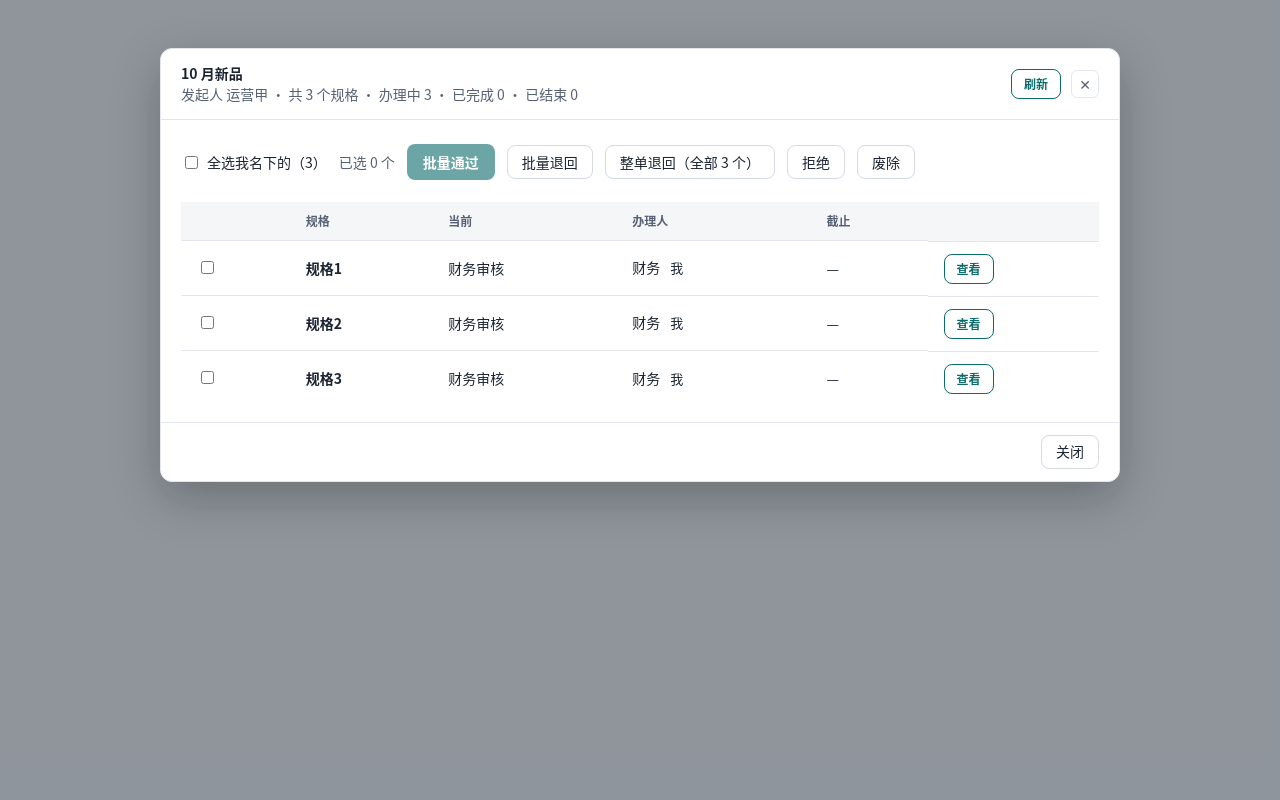
Test: SKU 申请汇总面板 › 勾选规格批量退回：必须写原因，提交后显示成功/失败汇总
The image size is (1280, 800).
Check: the text "规格1" is shown, box top-left (306, 258), bottom-right (342, 278)
Step 1. Click the checkbox named "选择 规格1" → coordinates (208, 267), box top-left (201, 260), bottom-right (214, 274)
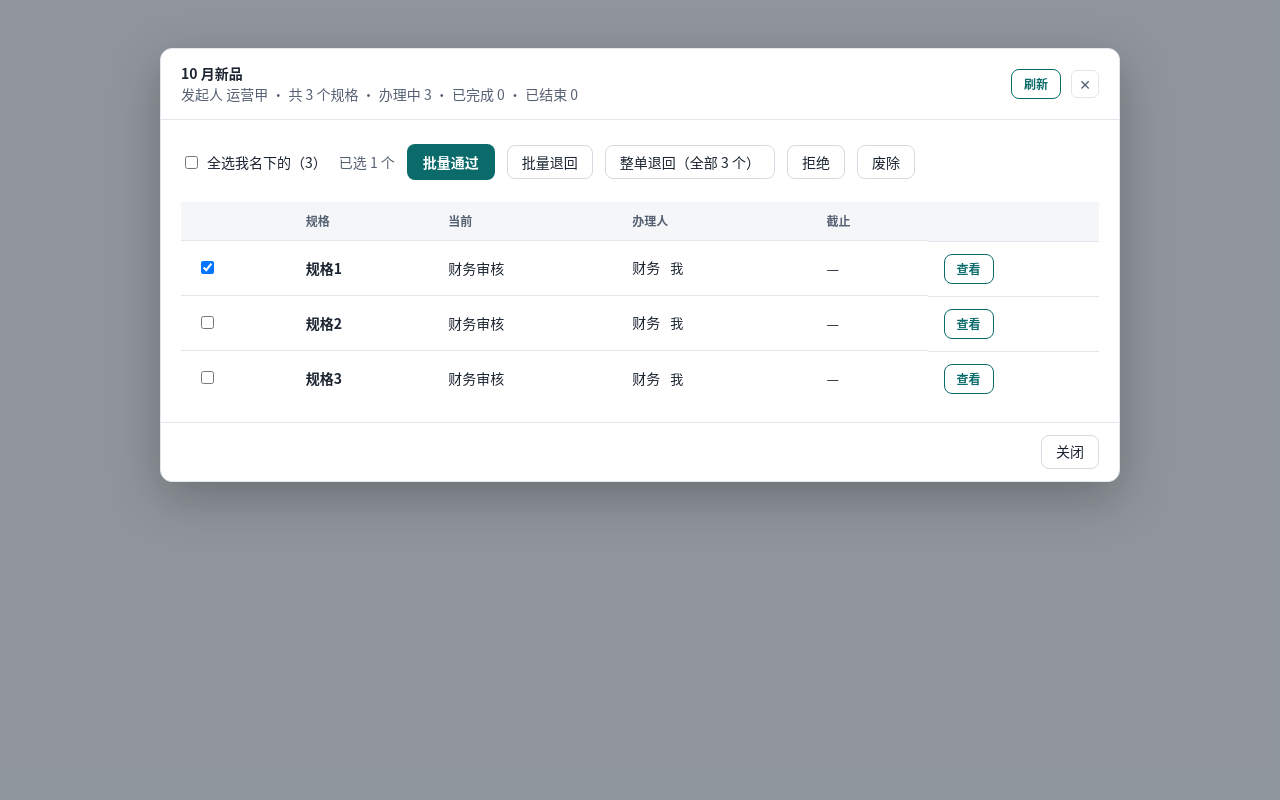
Step 2. Click the checkbox named "选择 规格2" → coordinates (208, 322), box top-left (201, 316), bottom-right (214, 328)
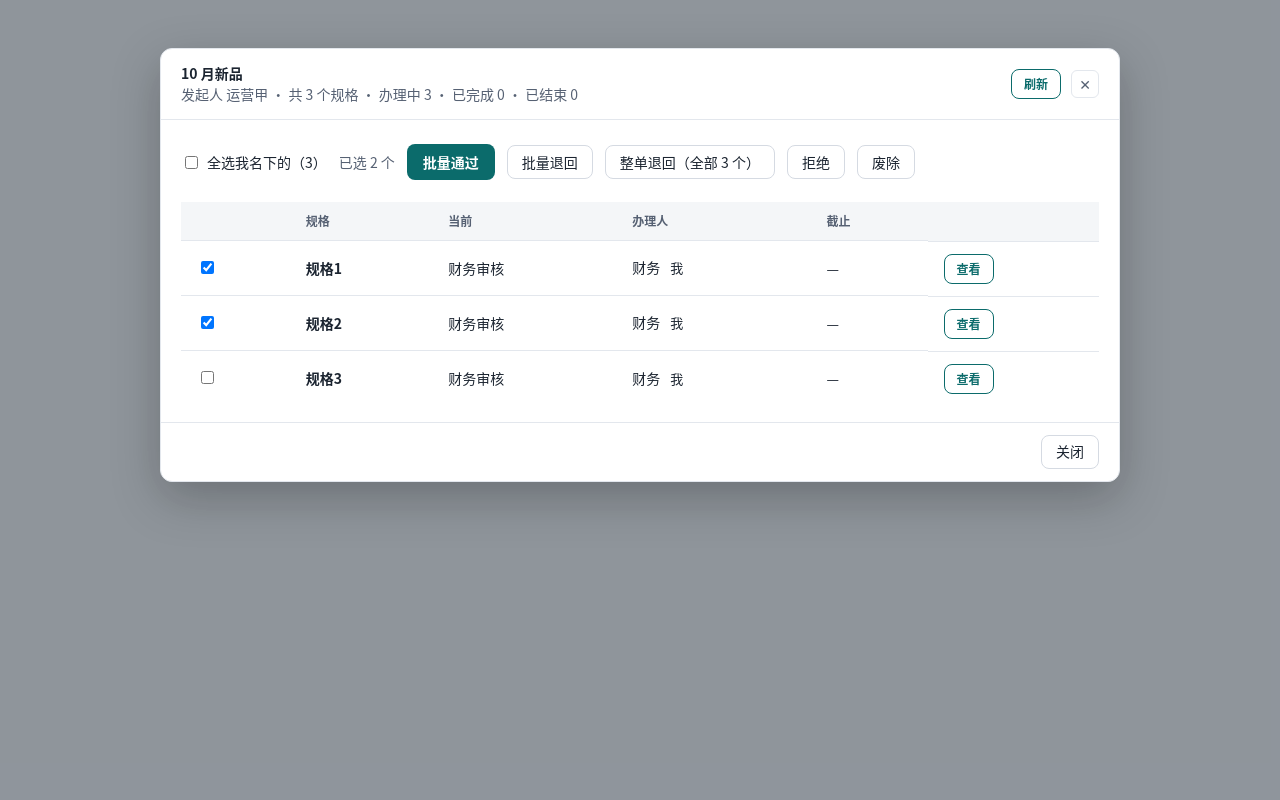
Step 3. Click the button "批量退回" → coordinates (550, 162), box top-left (507, 145), bottom-right (593, 179)
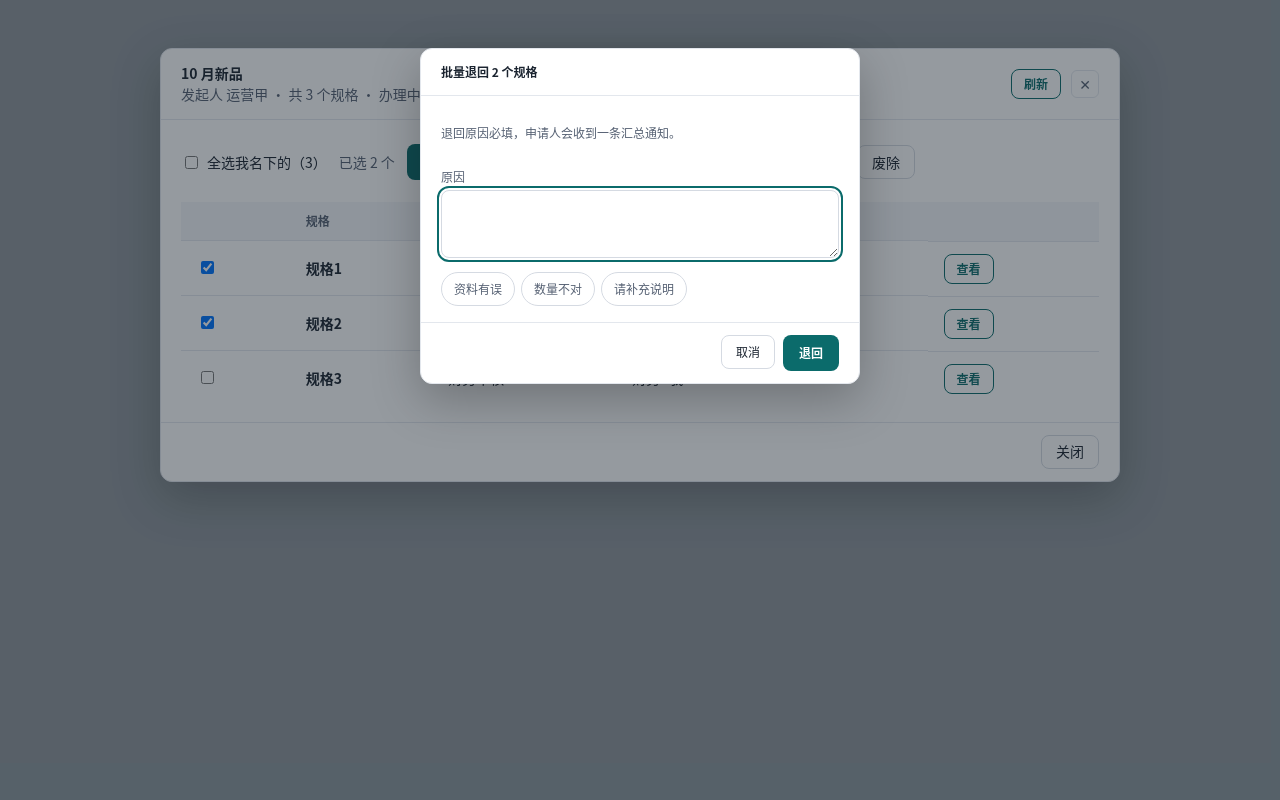
Step 4. Click the button "退回" → coordinates (811, 353), box top-left (783, 335), bottom-right (839, 371)
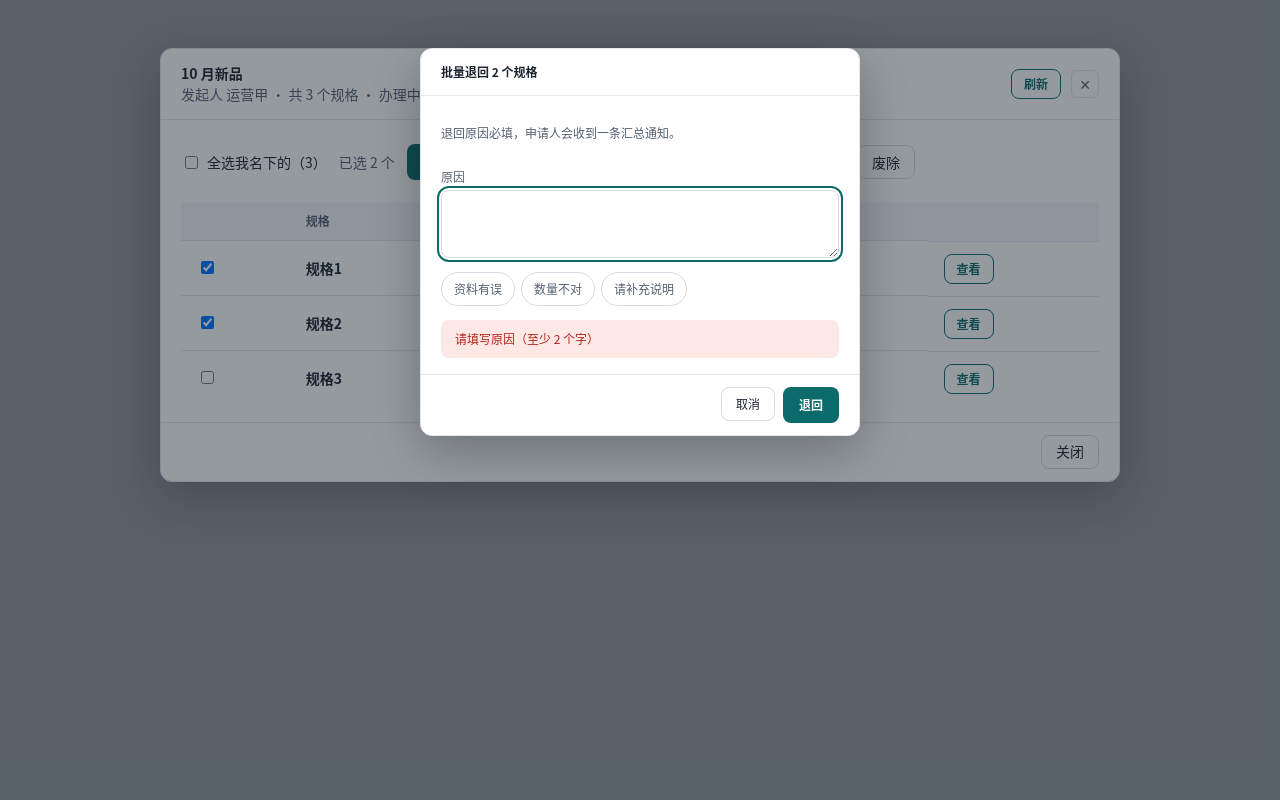
Check: the text "请填写原因（至少 2 个字）" is shown, box top-left (441, 320), bottom-right (839, 358)
Step 5. Type "赠品数量不对" into the text box → coordinates (640, 224), box top-left (441, 190), bottom-right (839, 258)
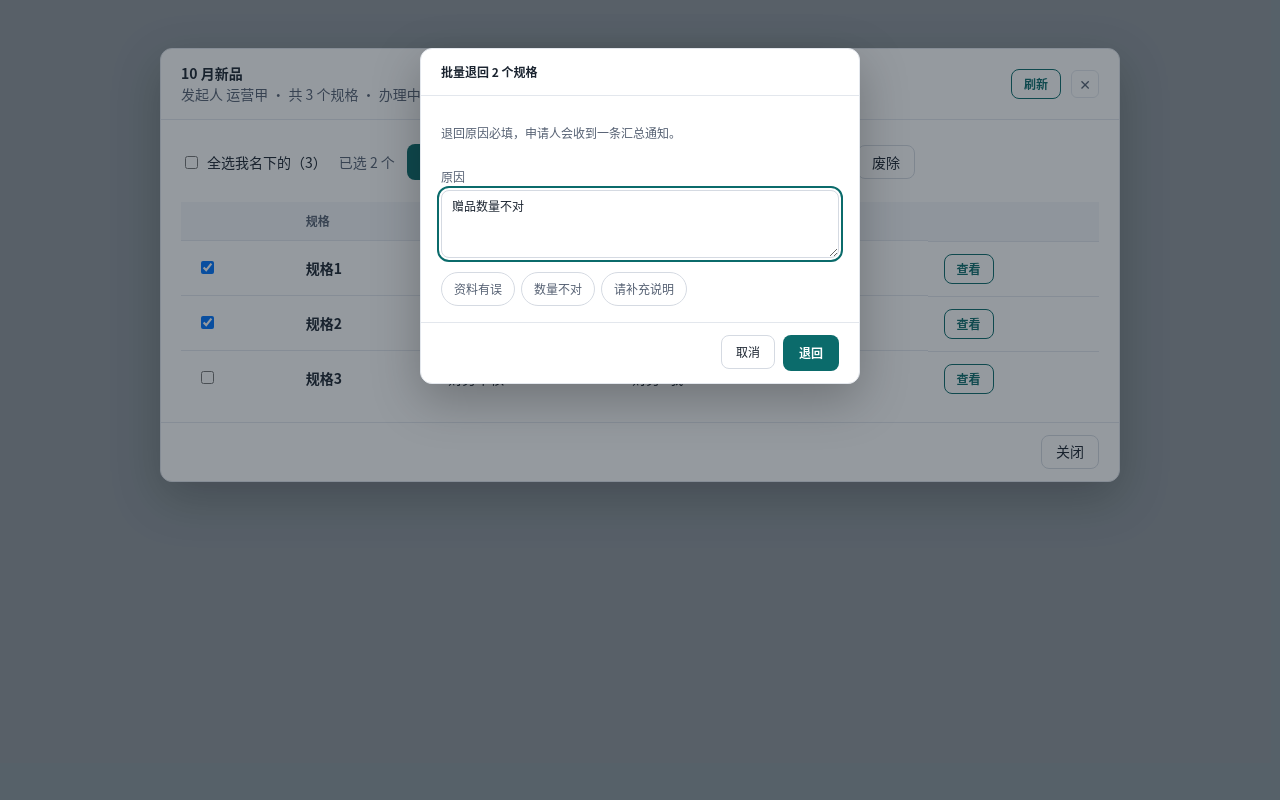
Step 6. Click the button "退回" → coordinates (811, 353), box top-left (783, 335), bottom-right (839, 371)
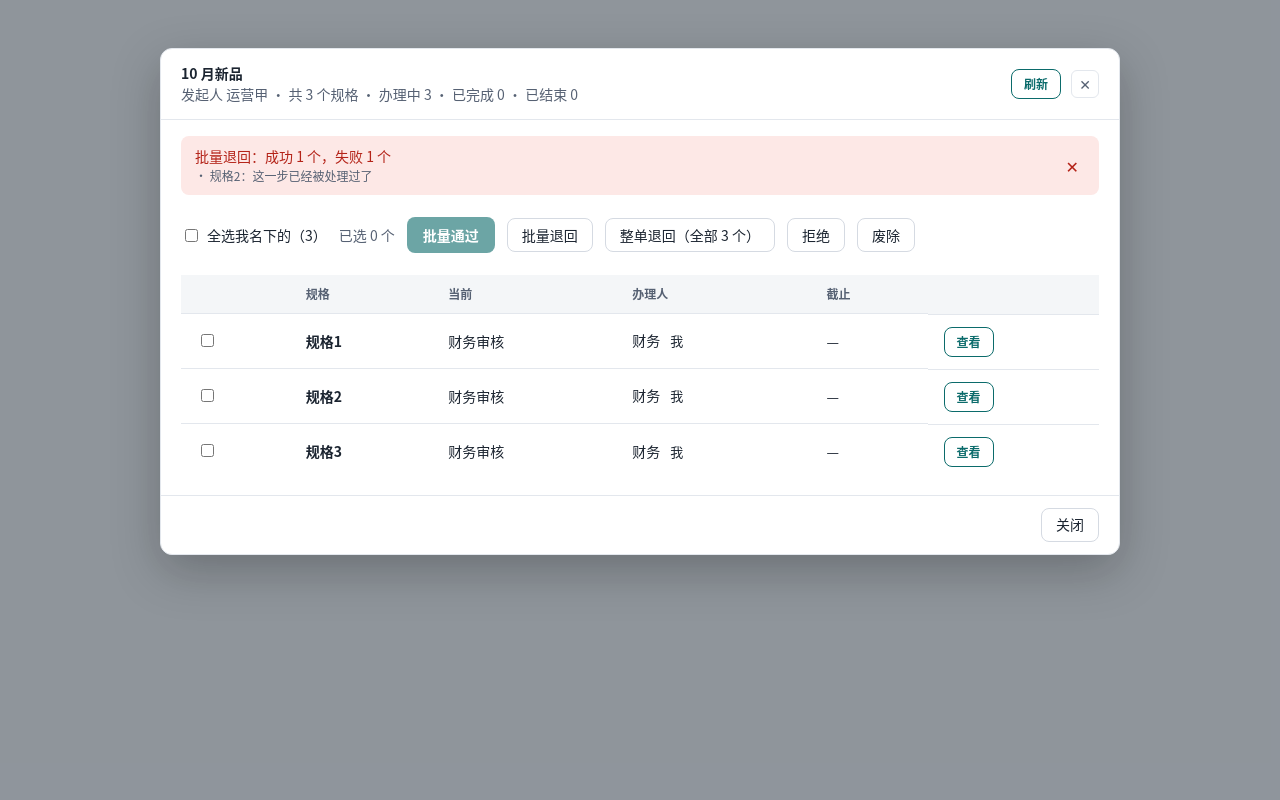
Check: the text "批量退回：成功 1 个，失败 1 个 · 规格2：这一步已经被处理过了" is shown, box top-left (195, 146), bottom-right (391, 185)
Check: the text "· 规格2：这一步已经被处理过了" is shown, box top-left (195, 167), bottom-right (391, 185)
